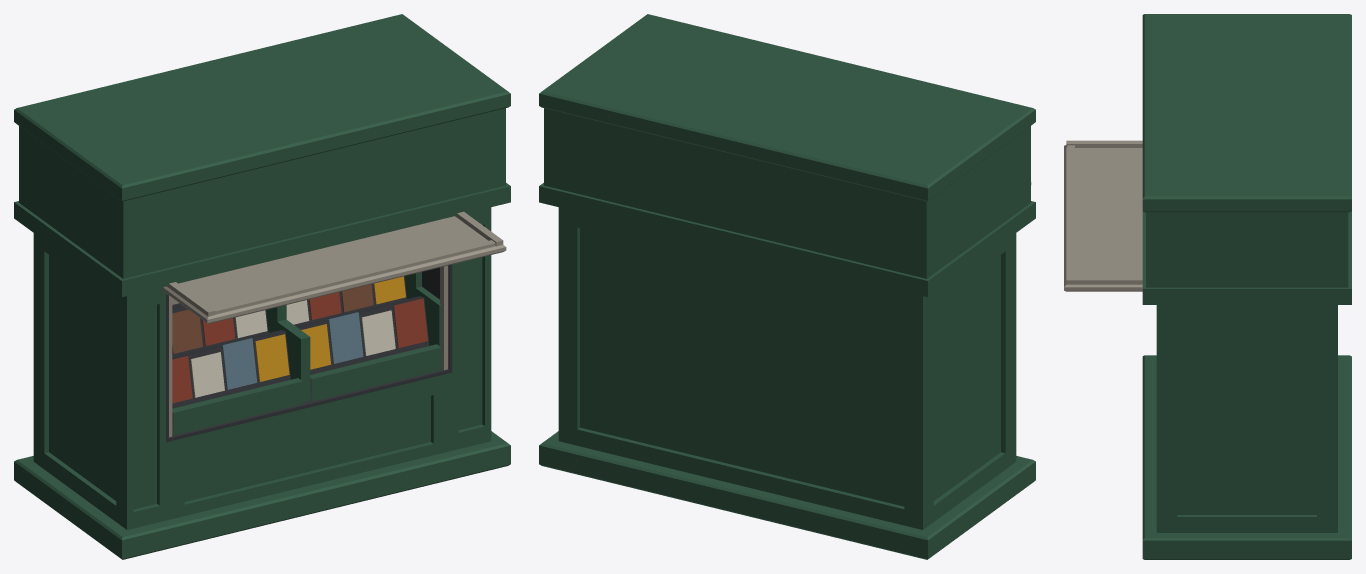
The model's file is newsstand-6dfd65.glb.
The picture shows the model from 3 angles, left to right: view 1: azimuth 30°, elevation 25°; view 2: azimuth 150°, elevation 25°; view 3: azimuth 270°, elevation 25°; orthographic projection. The views are drawn at different scales.
Visible parts, largest first — view 1: kiosk-body, racks, awning-blade; view 2: kiosk-body; view 3: kiosk-body, awning-blade.
Part boxes in pixels (x1,y1,x2,y2): kiosk-body: [14, 14, 510, 559]; racks: [172, 272, 441, 435]; awning-blade: [162, 211, 506, 323]; kiosk-body: [539, 14, 1035, 559]; kiosk-body: [1142, 14, 1351, 559]; awning-blade: [1064, 140, 1142, 291].
Size of the model in its own units: 2.5 by 2.3 by 1.65.
